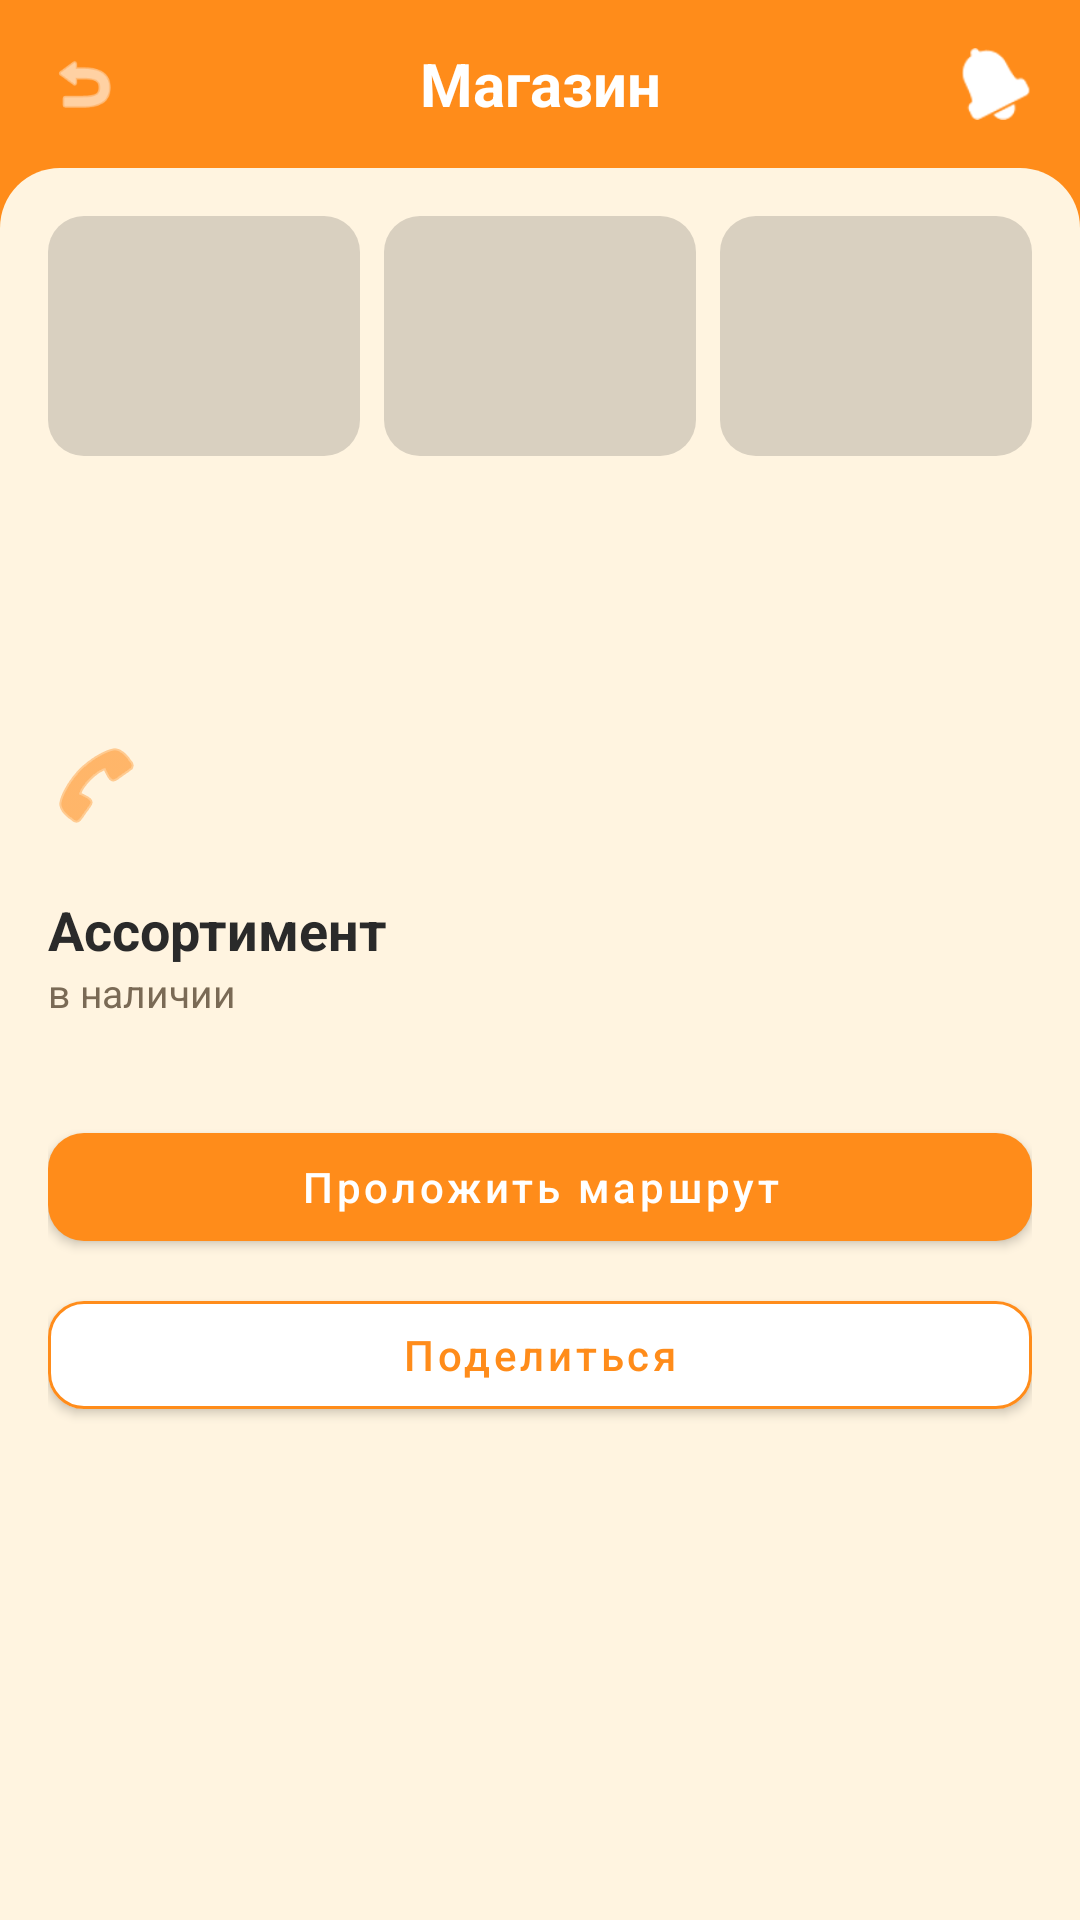

Icon bounding boxes for this 1080px x 1920px phone screenshot, format (x1, y1, x2, y2):
popup reminder: (962, 48, 1030, 120)
revert: (59, 61, 111, 108)
